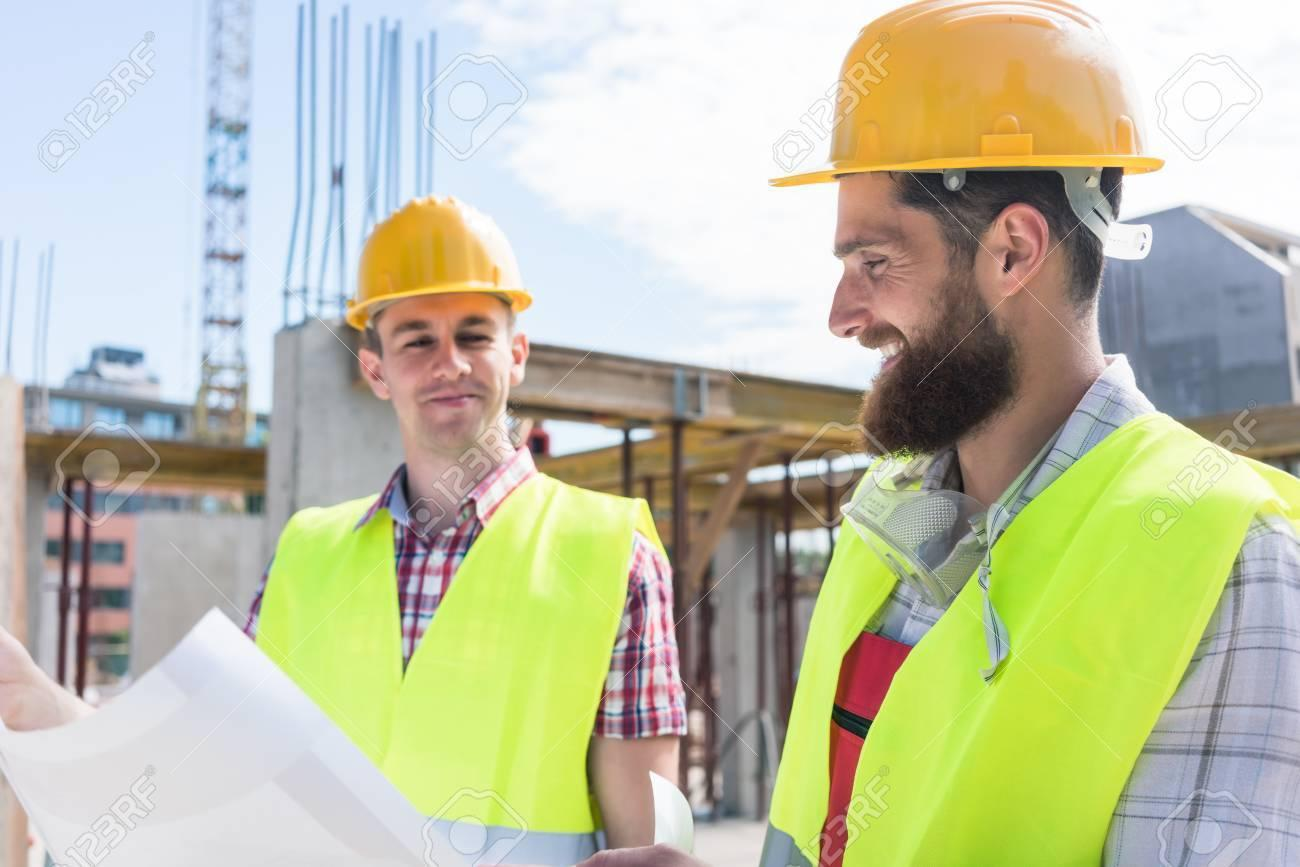hardhat: (774, 1, 1167, 187), (349, 195, 535, 324)
worker: (1, 196, 694, 867), (766, 2, 1295, 867)
